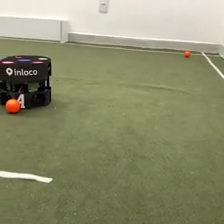ball: (4, 96, 21, 114), (183, 49, 191, 58)
goal: (1, 14, 70, 44)
robot: (1, 53, 54, 111)
